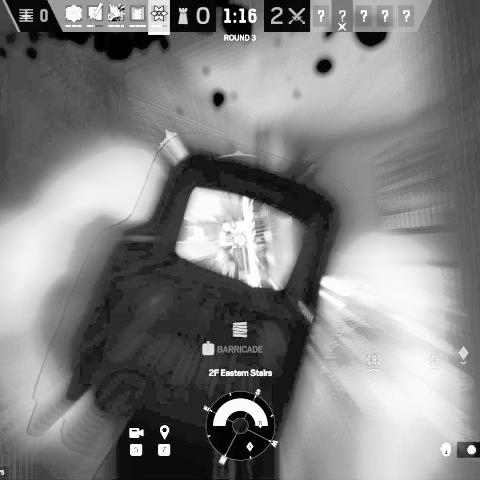Character: (217, 220, 240, 279)
Head: (228, 221, 238, 234)
